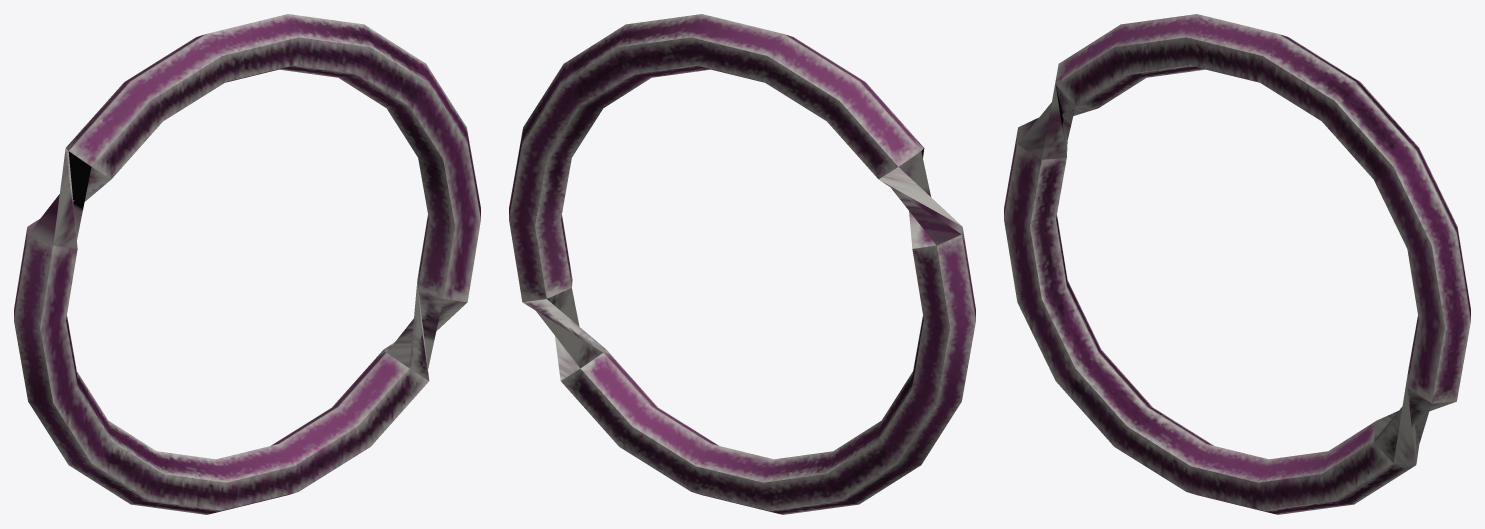
Rendered from Ribbonlash_ChainLink.fbx.
3 renders of one model, left to right at view 1: azimuth 30°, elevation 25°; view 2: azimuth 150°, elevation 25°; view 3: azimuth 330°, elevation 25°, orthographic.
Parts seen in each view (by area): view 1: Ribbonlash_ChainLink; view 2: Ribbonlash_ChainLink; view 3: Ribbonlash_ChainLink.
Part boxes in pixels (x1=…): Ribbonlash_ChainLink: x1=14, y1=14, x2=480, y2=514; Ribbonlash_ChainLink: x1=509, y1=14, x2=975, y2=514; Ribbonlash_ChainLink: x1=1004, y1=14, x2=1470, y2=514.
Bounding box in the file's own units: 0.27 × 0.2659 × 0.026.
